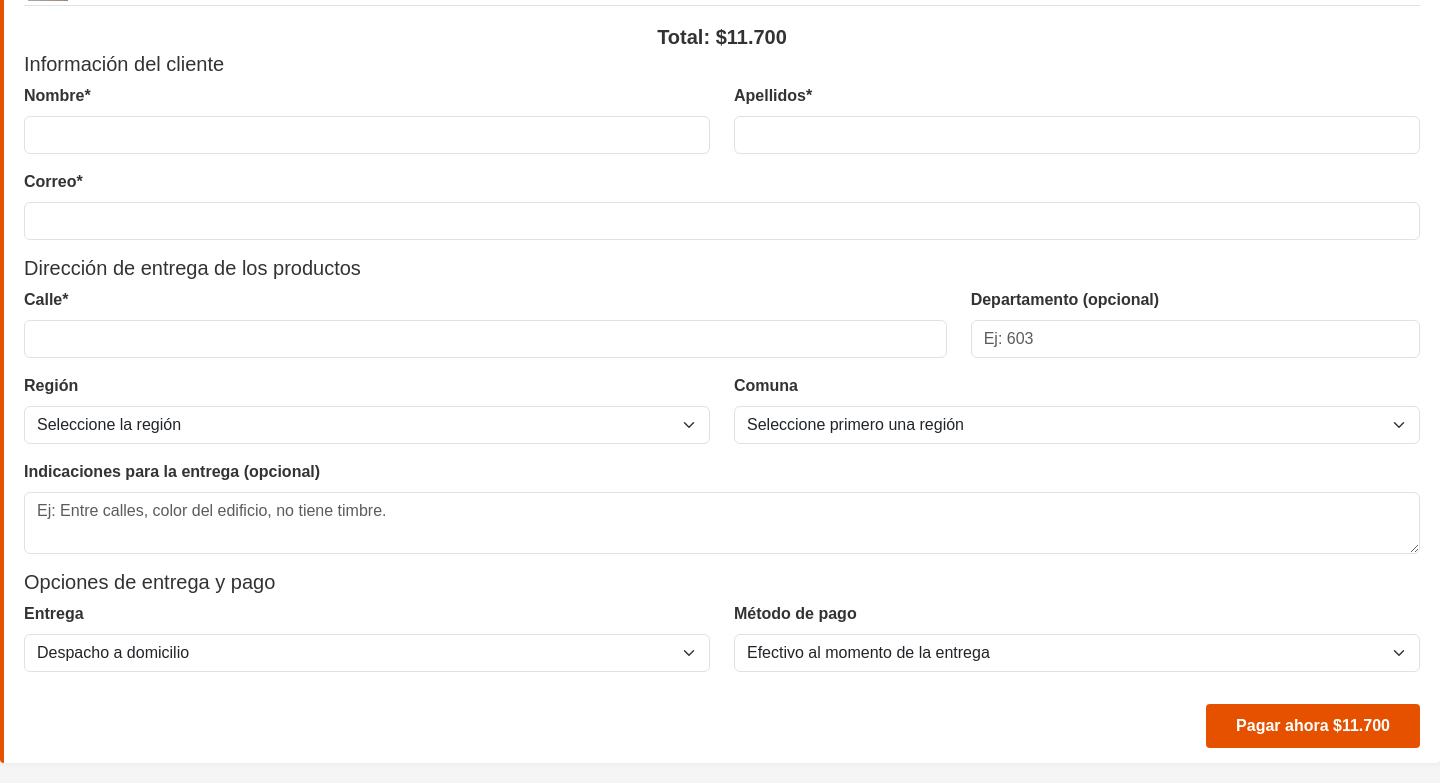
Test: Checkout › sin sesión el formulario parte vacío y valida los campos obligatorios
(page scrolled)
expect the field labelled "Nombre*" is empty: met, box x1=24 y1=116 x2=710 y2=154
Click the button "Pagar ahora $11.700".
click(1313, 726)  # box x1=1206 y1=704 x2=1420 y2=748
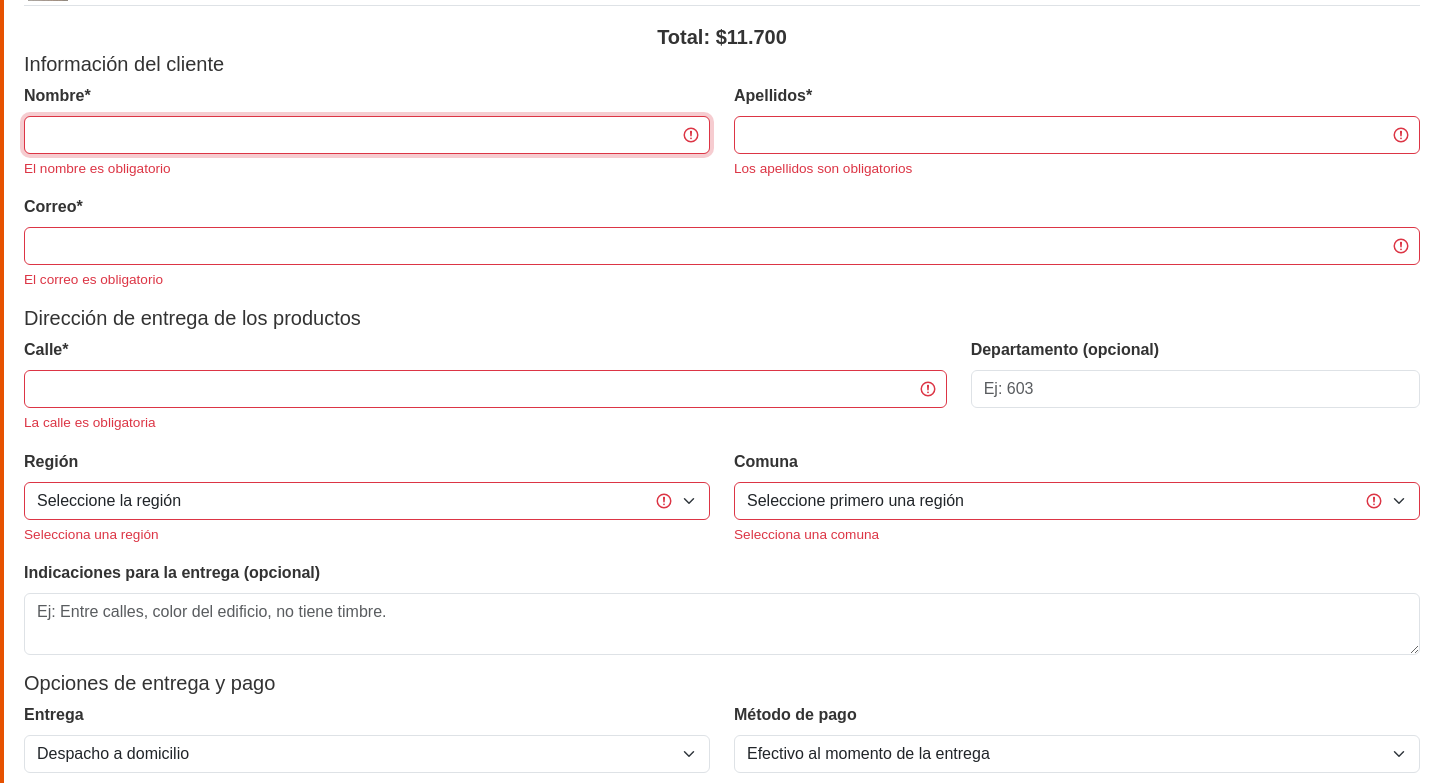
expect the text "El nombre es obligatorio" is shown: met, box x1=24 y1=161 x2=171 y2=176
